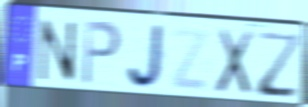J: (125, 23, 167, 91)
N: (38, 17, 77, 85)
P: (80, 19, 124, 89)
X: (213, 27, 256, 97)
Z: (257, 30, 303, 101), (170, 26, 211, 94)
